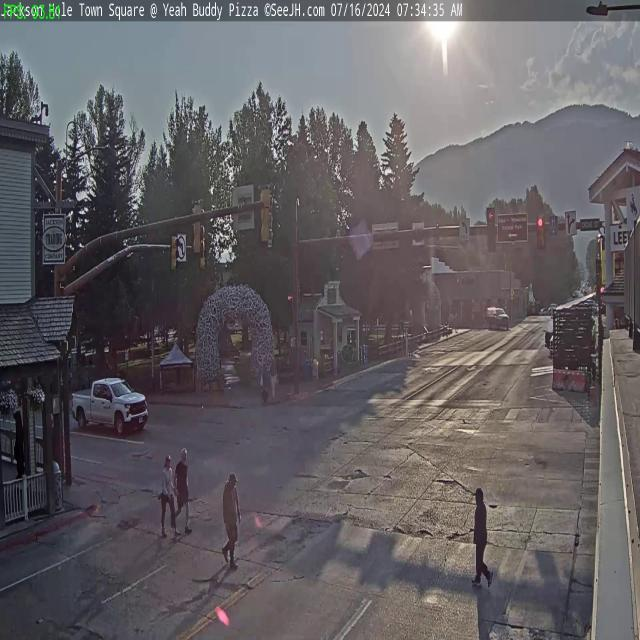person: (472, 484, 494, 590), (220, 470, 240, 562), (174, 447, 189, 534), (159, 454, 173, 535), (262, 351, 274, 408)
pickup: (70, 375, 149, 444)
traffic light: (260, 185, 273, 245), (190, 200, 203, 256), (170, 230, 180, 275), (486, 208, 496, 253), (536, 215, 545, 248)
